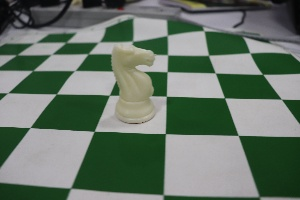white_horse: (101, 31, 166, 130)
